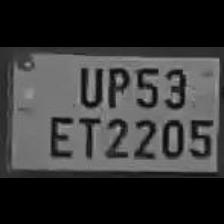0: (158, 111, 184, 156)
2: (101, 111, 129, 158), (130, 113, 154, 158)
3: (160, 64, 188, 108)
5: (130, 61, 160, 106), (185, 113, 213, 157)
E: (44, 110, 74, 160)
P: (101, 60, 131, 106)
T: (74, 110, 102, 158)
U: (72, 60, 104, 106)
